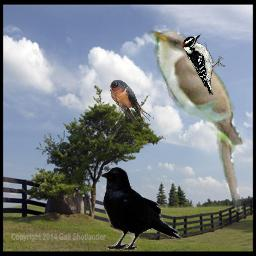Crow: (98, 166, 183, 251)
Cuckoo: (144, 25, 246, 215)
Swallow: (109, 79, 154, 125)
Woodpecker: (182, 34, 226, 95)
